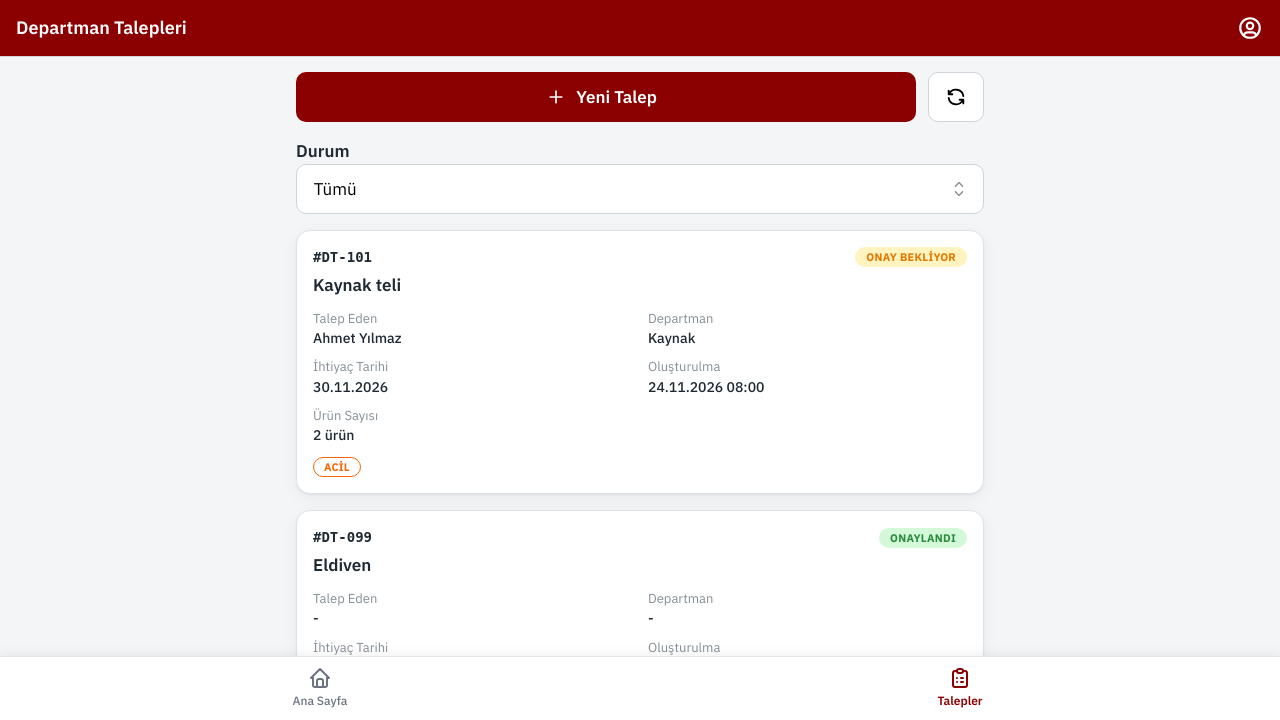
Test: department request list › shows all of the user’s requests by default and filters by status on the phone
This screenshot has width=1280, height=720.
Check: the text "Kaynak teli" is shown, box [313,274,401,296]
Check: the text "Eldiven" is shown, box [313,554,371,576]
Select "Onaylandı" in the dropdown labelled "Durum" at (640, 189), box [296,164,984,214]
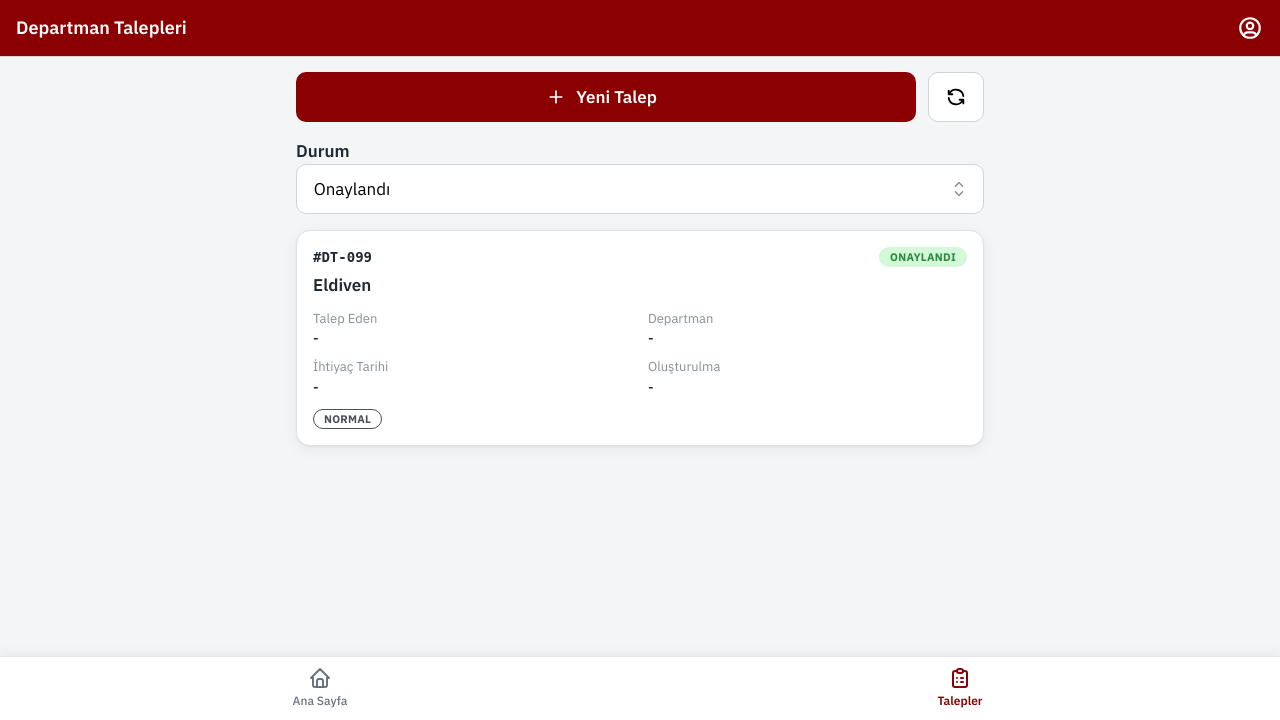
Check: the text "Eldiven" is shown, box [313,274,371,296]
Check: the text "Kaynak teli" is gone
Select "Reddedildi" in the dropdown labelled "Durum" at (640, 189), box [296,164,984,214]
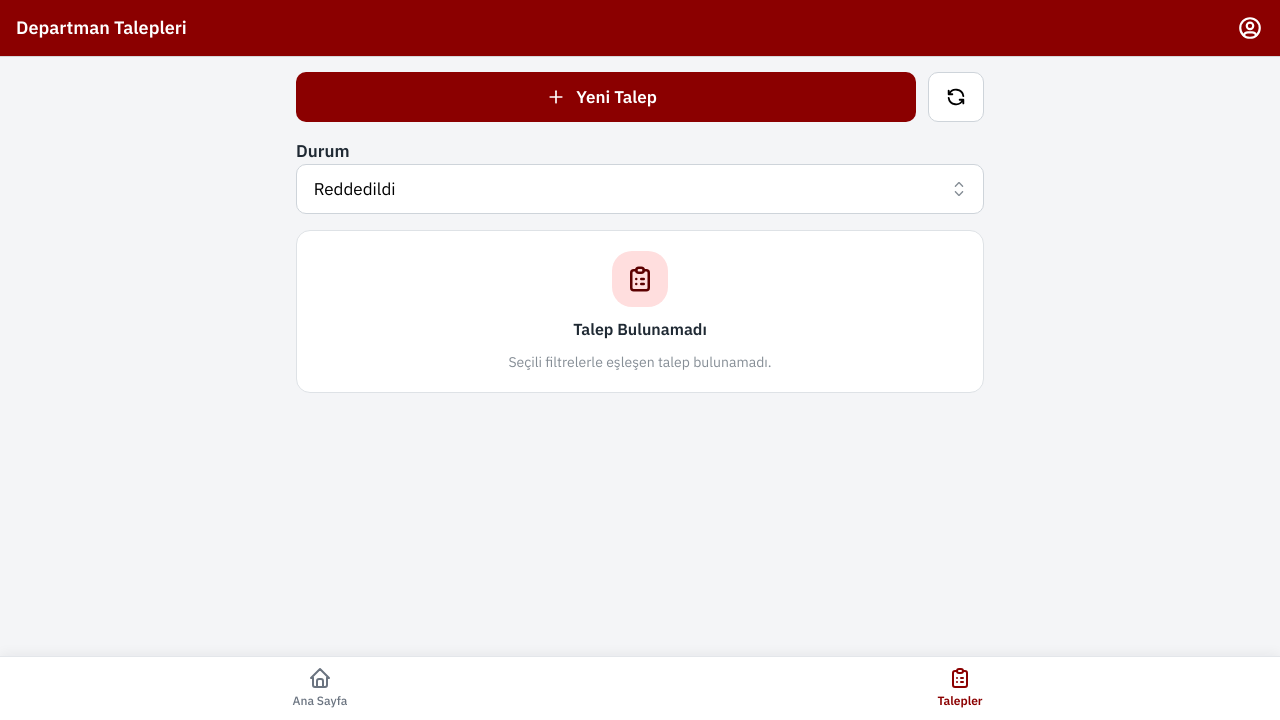
Check: the text "Seçili filtrelerle eşleşen talep bulunamadı." is shown, box [508,352,772,372]
